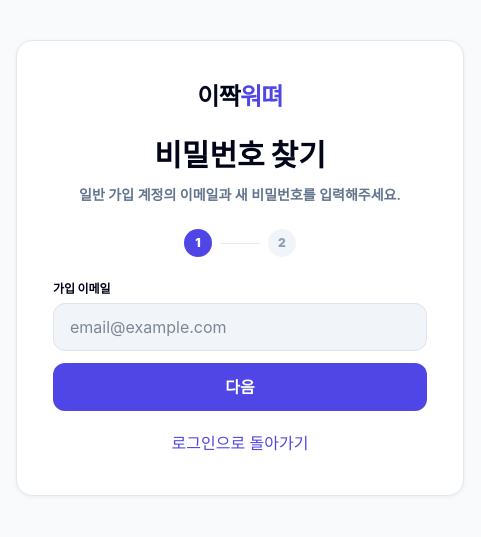
ForgotPasswordPage › stays on the email step when the account does not exist
Type "missing@example.com" into the field labelled "가입 이메일".
click(240, 327); type("missing@example.com")  # box [53,303,427,351]
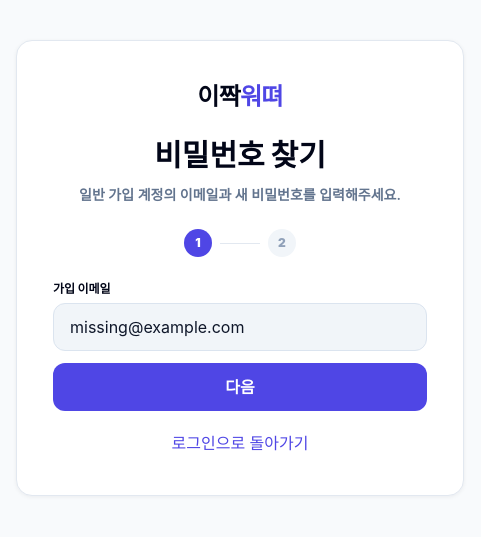
Click the button with test id "continue-button".
click(240, 387)  # box [53,363,427,411]
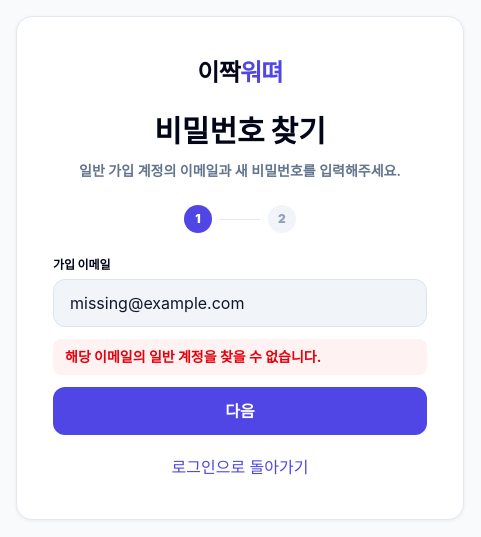
expect the form with test id "email-step" is shown: met, box [53,257,427,435]
expect the text "해당 이메일의 일반 계정을 찾을 수 없습니다." is shown: met, box [53,339,427,375]
